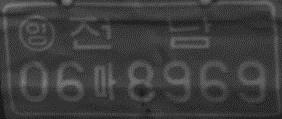0: (17, 59, 50, 104)
6: (198, 58, 230, 104), (55, 60, 87, 104)
8: (126, 59, 155, 103)
9: (236, 60, 267, 104), (162, 60, 192, 105)
마: (92, 61, 117, 99)
영: (18, 14, 58, 52)
전남_D: (65, 14, 212, 50)
